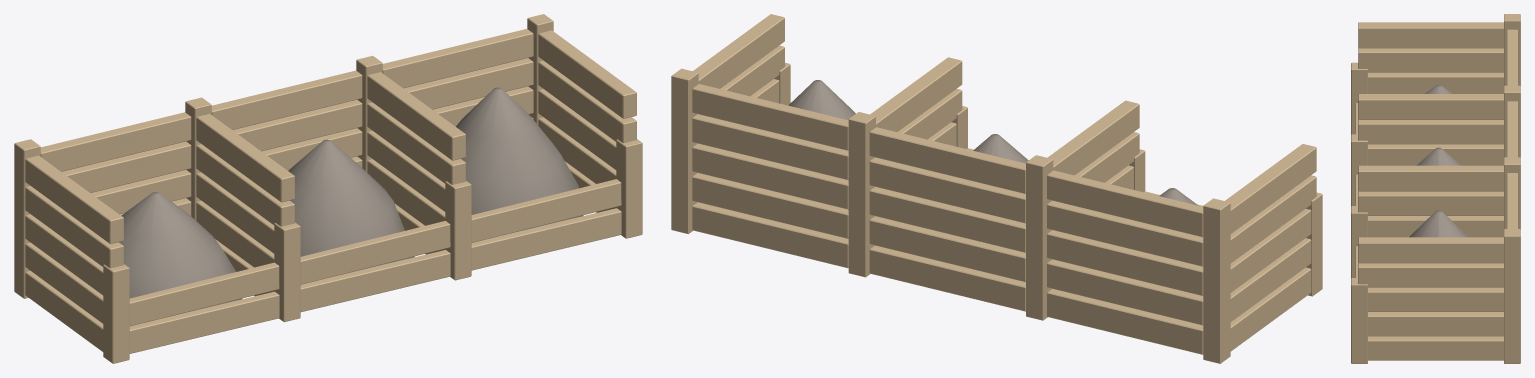
File: garden-centre-and-florist-compost-bulk-bay-15e6949a__17738.glb
3 views of the same model, side by side, from view 1: azimuth 30°, elevation 25°; view 2: azimuth 150°, elevation 25°; view 3: azimuth 270°, elevation 25° (orthographic). The views are drawn at different scales.
Parts seen in each view (by area): view 1: compost-bulk-bay; view 2: compost-bulk-bay; view 3: compost-bulk-bay.
Boxes of the visible parts, x1,y1,x2,y2 form: compost-bulk-bay: [14, 14, 642, 363]; compost-bulk-bay: [671, 14, 1322, 363]; compost-bulk-bay: [1351, 14, 1520, 363].
Size of the model in its own units: 3.72 by 1 by 1.2.
